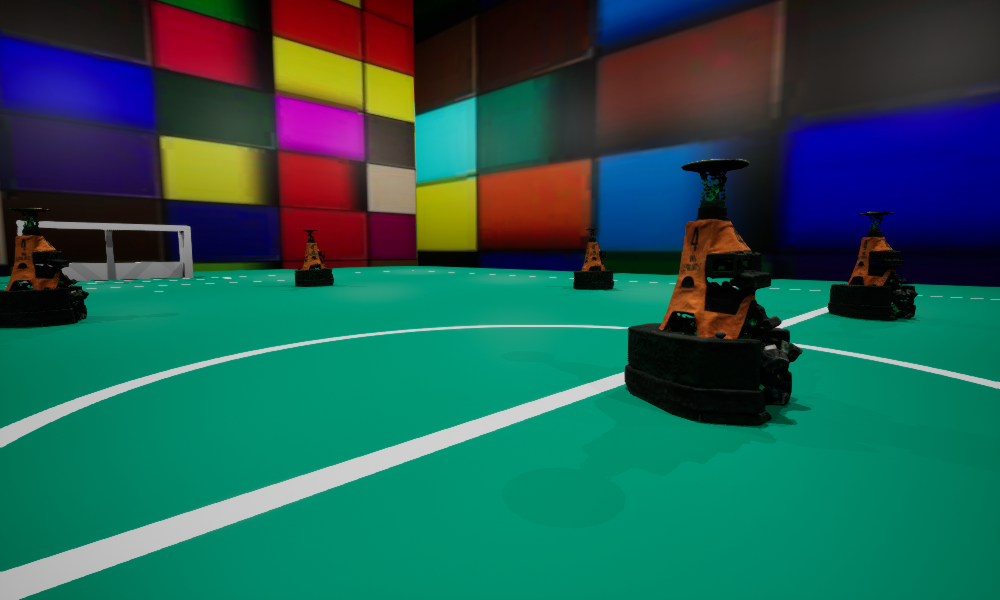0 orange robot TechUnited: (625, 159, 802, 425), (0, 208, 88, 327), (828, 212, 917, 320), (573, 228, 613, 289), (295, 230, 333, 286)
